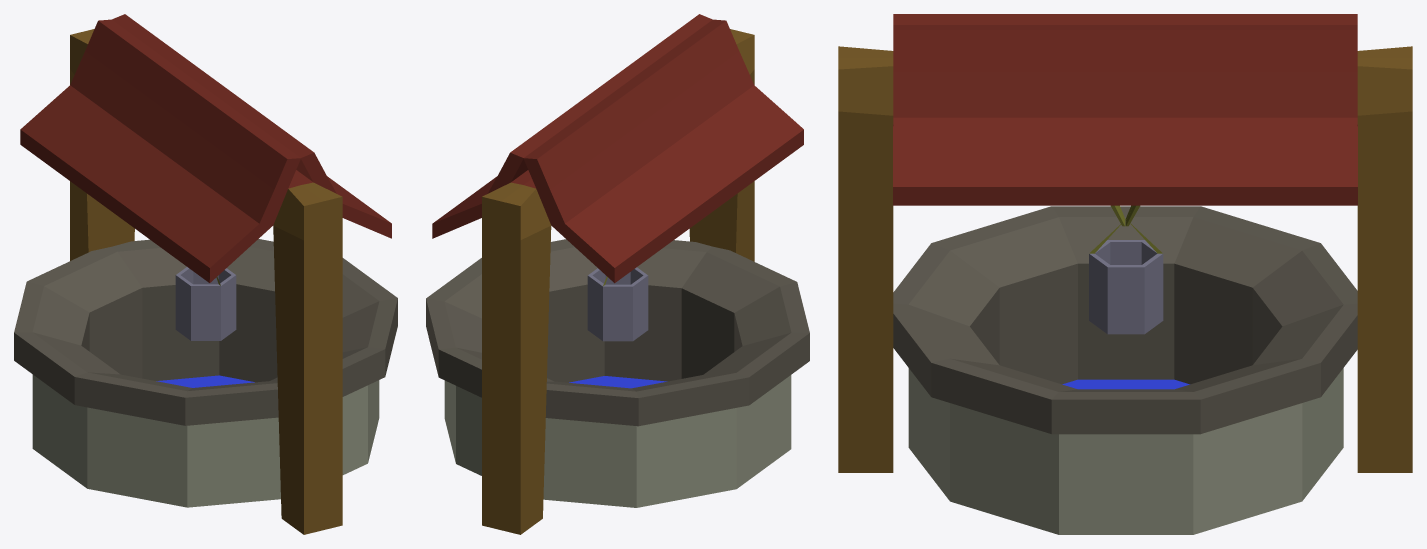
File: well.fbx
3 views of the same model, side by side, from view 1: azimuth 30°, elevation 25°; view 2: azimuth 150°, elevation 25°; view 3: azimuth 270°, elevation 25° (orthographic). The views are drawn at different scales.
Visible parts, largest first — view 1: Canopy, Well, Bucket; view 2: Canopy, Well, Bucket; view 3: Canopy, Well, Bucket.
Boxes of the visible parts, x1,y1,x2,y2 form: Canopy: (20,14,391,534); Well: (14,239,397,507); Bucket: (175,267,236,340); Canopy: (432,14,803,534); Well: (426,239,809,507); Bucket: (587,267,648,341); Canopy: (838,14,1412,472); Well: (893,206,1357,534); Bucket: (1089,219,1163,334).
Bounding box in the file's own units: 664 × 703 × 833.
